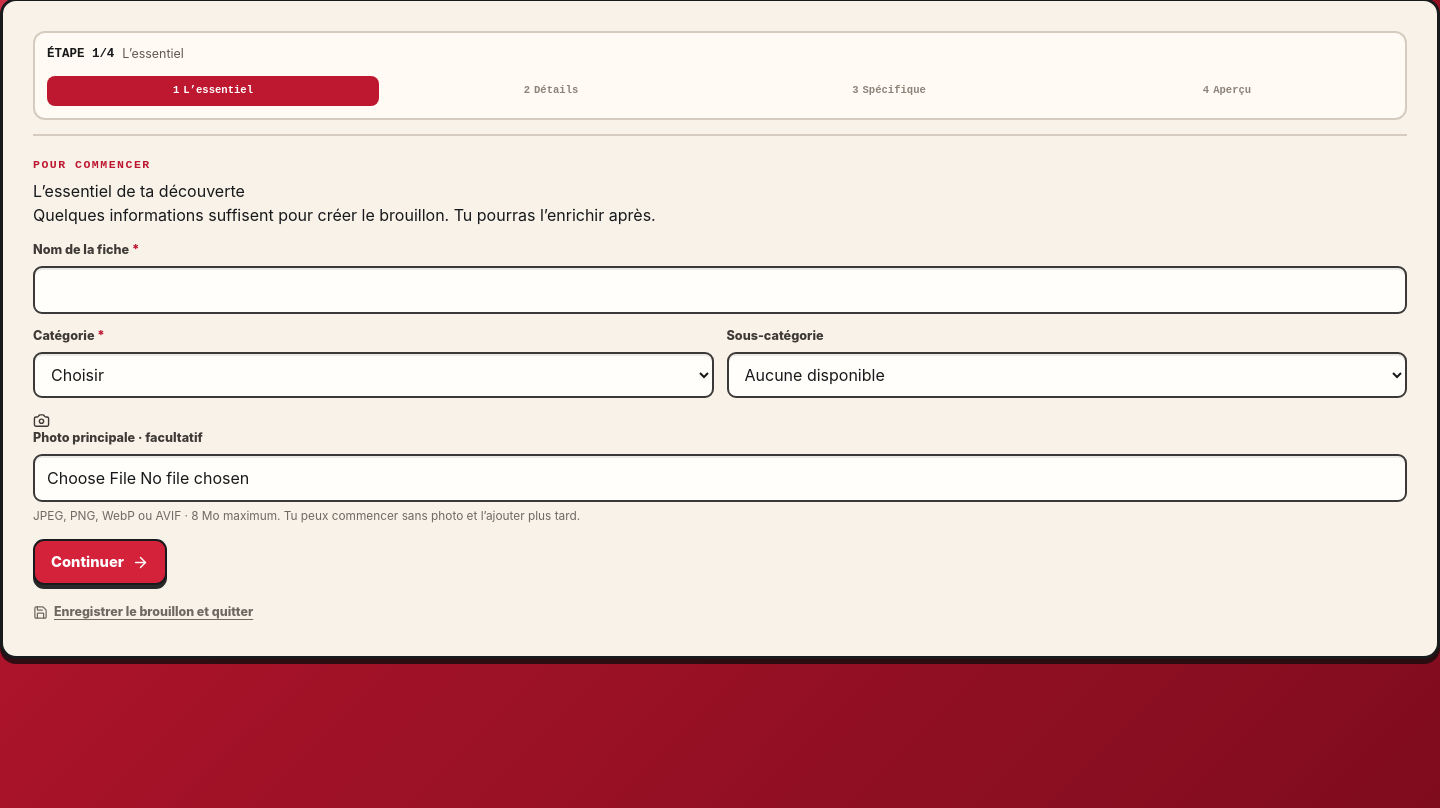
capture form wizard › creates the draft from the essential step and keeps the same id for the next step
This screenshot has width=1440, height=808.
Expected: the heading "L’essentiel de ta découverte" is shown, [33, 181, 245, 201]
Expected: the text "Enrichir la fiche" is not shown
Type "Hash Rosin" into the field labelled "Nom de la fiche *".
click(720, 290); type("Hash Rosin")  # box [33, 266, 1407, 314]
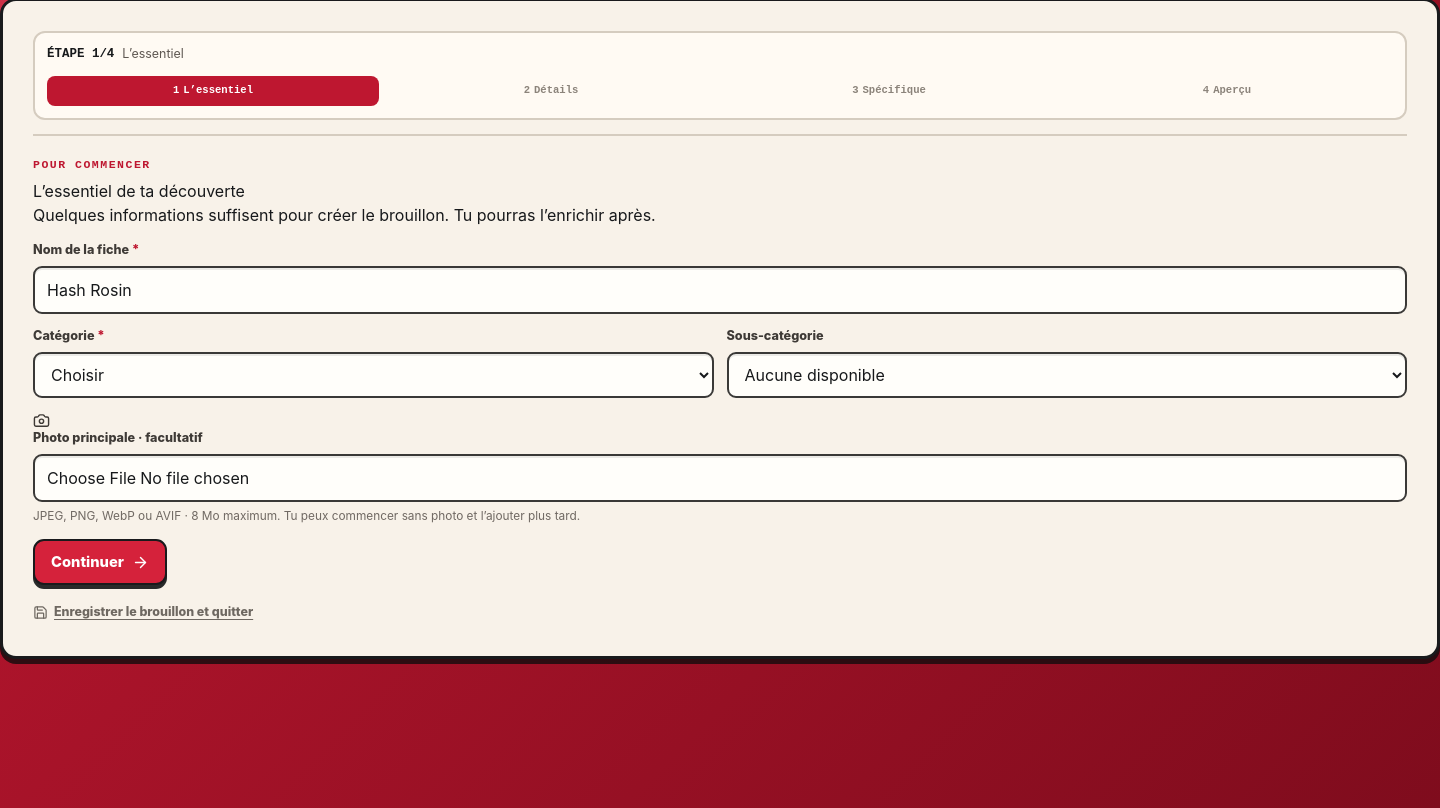
Select "Hash" in the dropdown labelled "Catégorie *" at (373, 375), box [33, 352, 714, 398]
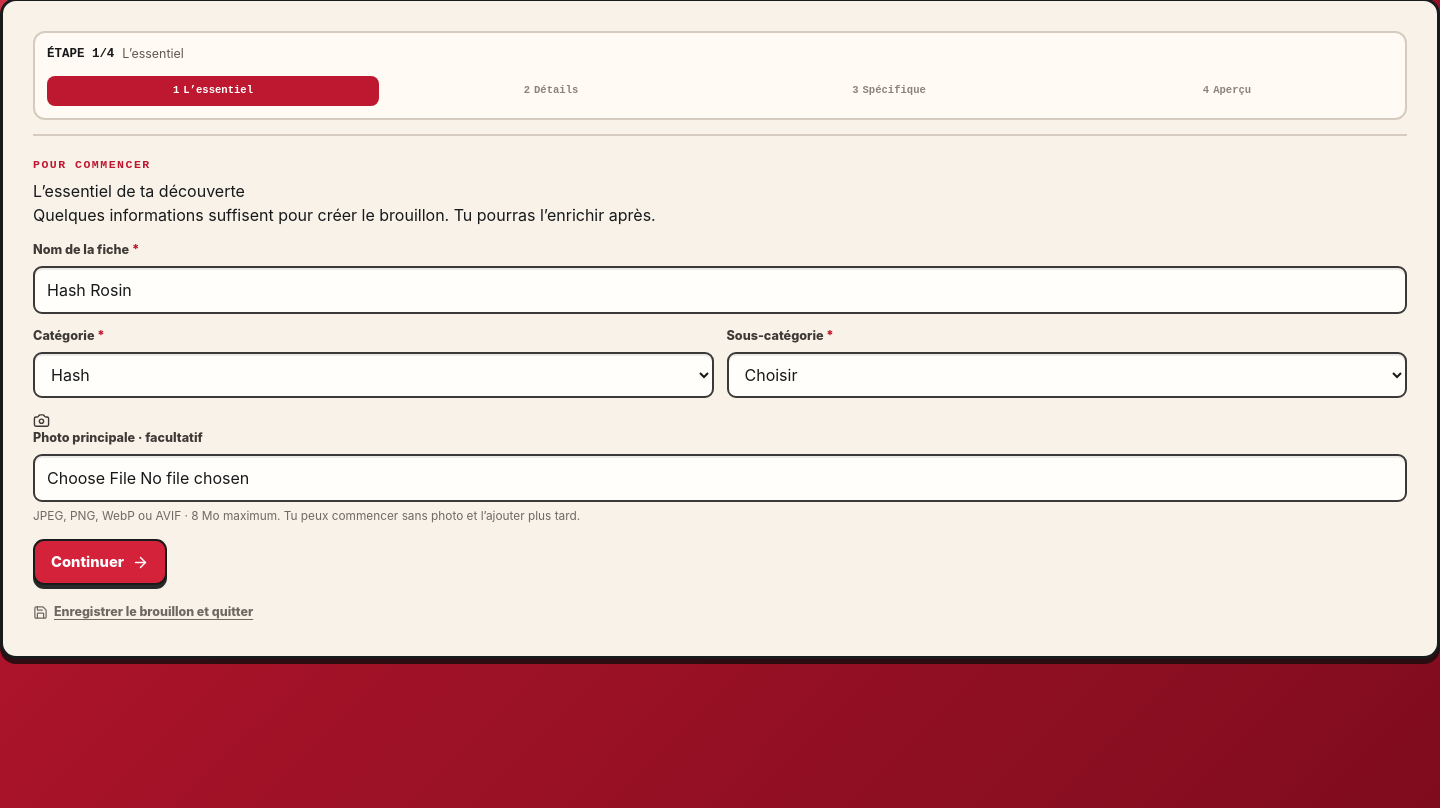
Select "Hash Rosin" in the dropdown labelled "Sous-catégorie *" at (1067, 375), box [726, 352, 1407, 398]
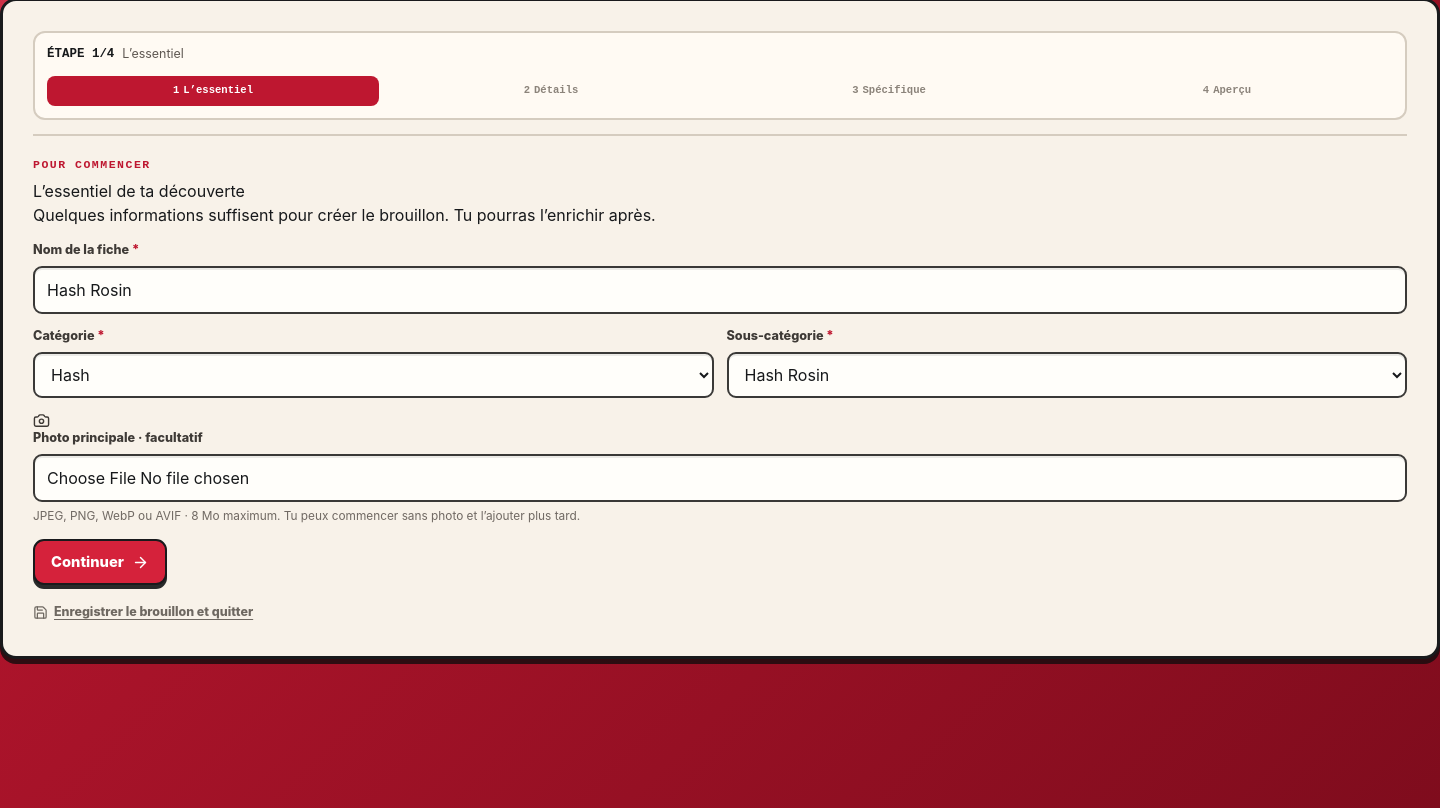
Click the button "Continuer".
click(100, 562)  # box [33, 540, 167, 586]
(page scrolled)
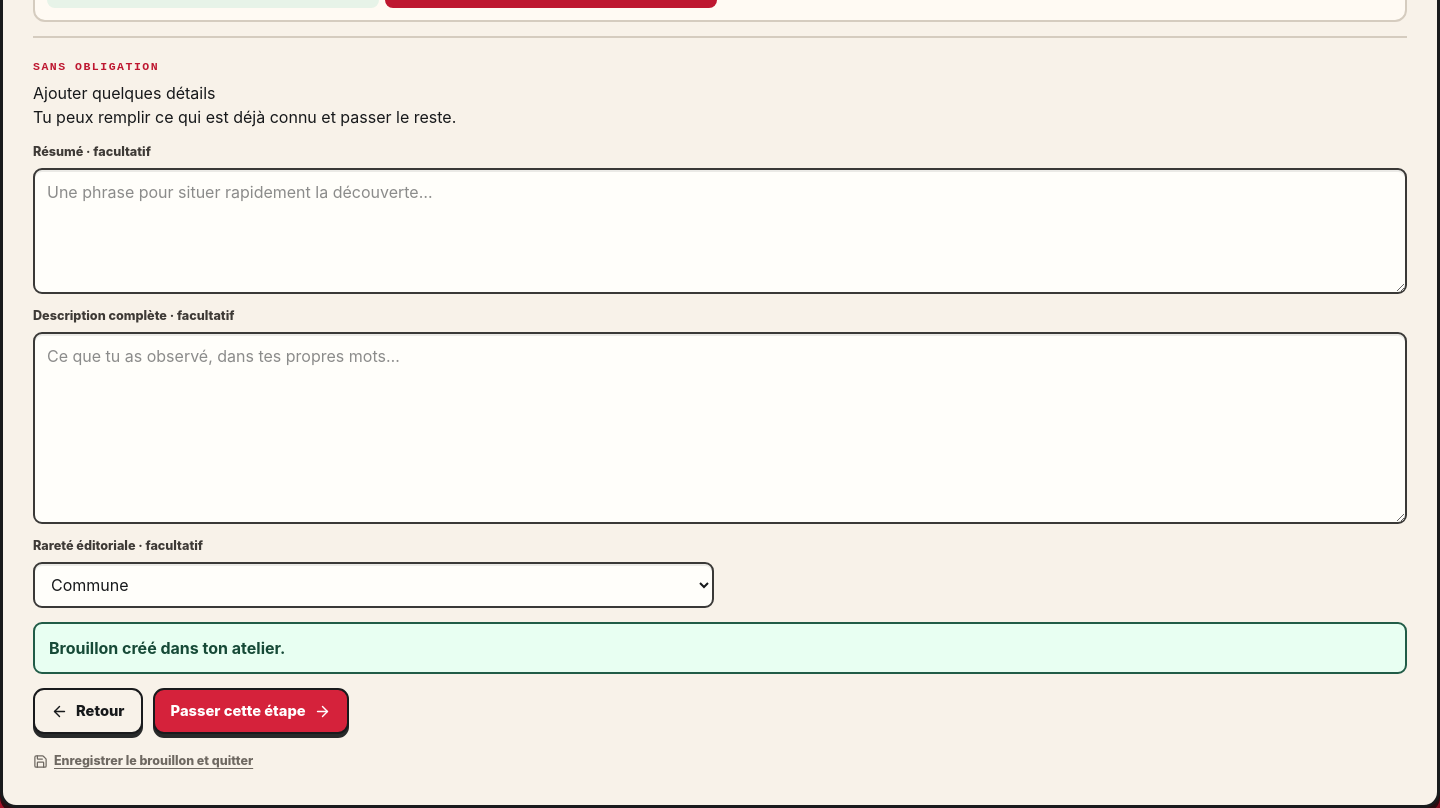
Expected: the heading "Ajouter quelques détails" is shown, [33, 83, 216, 103]
Click the button "Passer cette étape".
click(251, 711)  # box [153, 688, 349, 734]
(page scrolled)
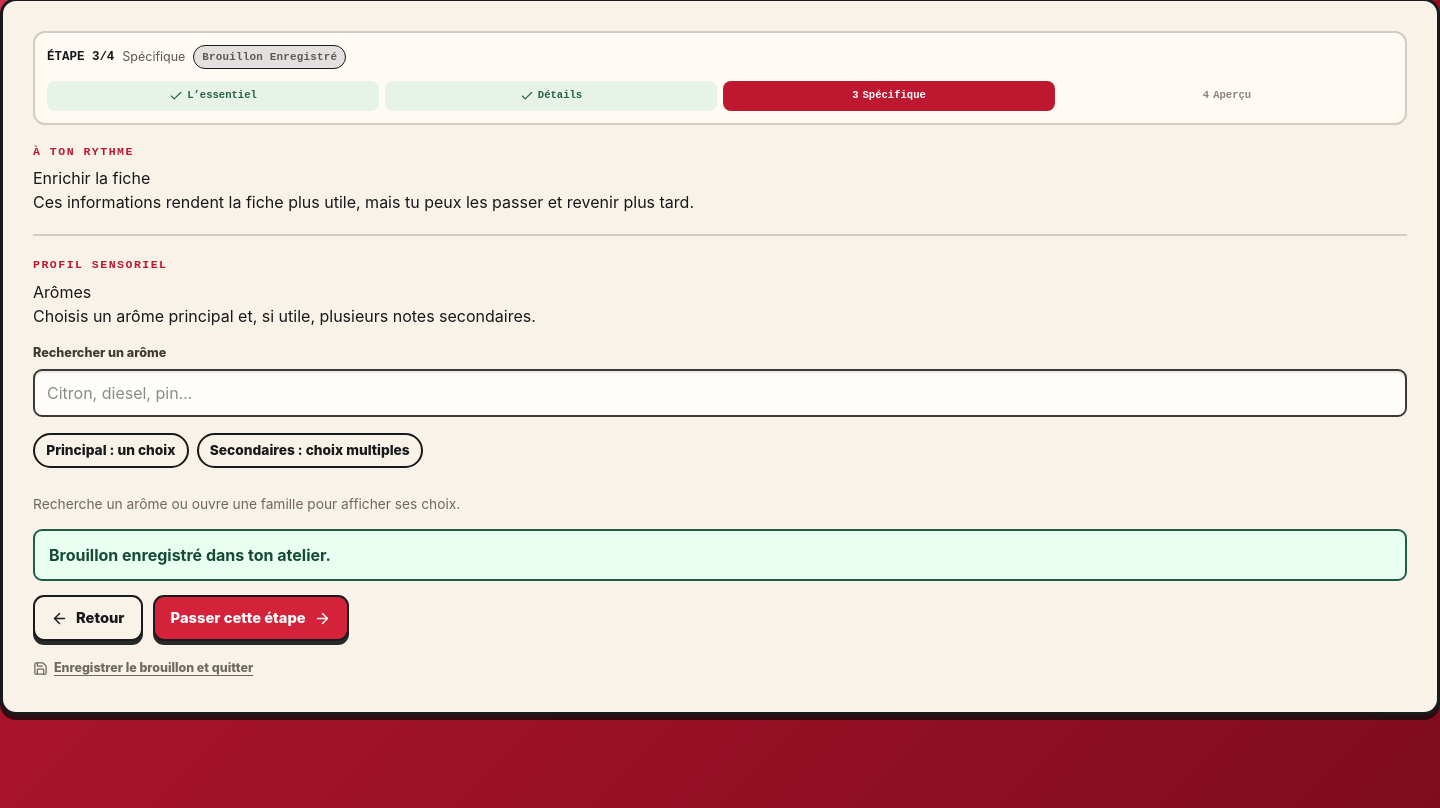
Expected: the heading "Enrichir la fiche" is shown, [33, 168, 150, 188]
